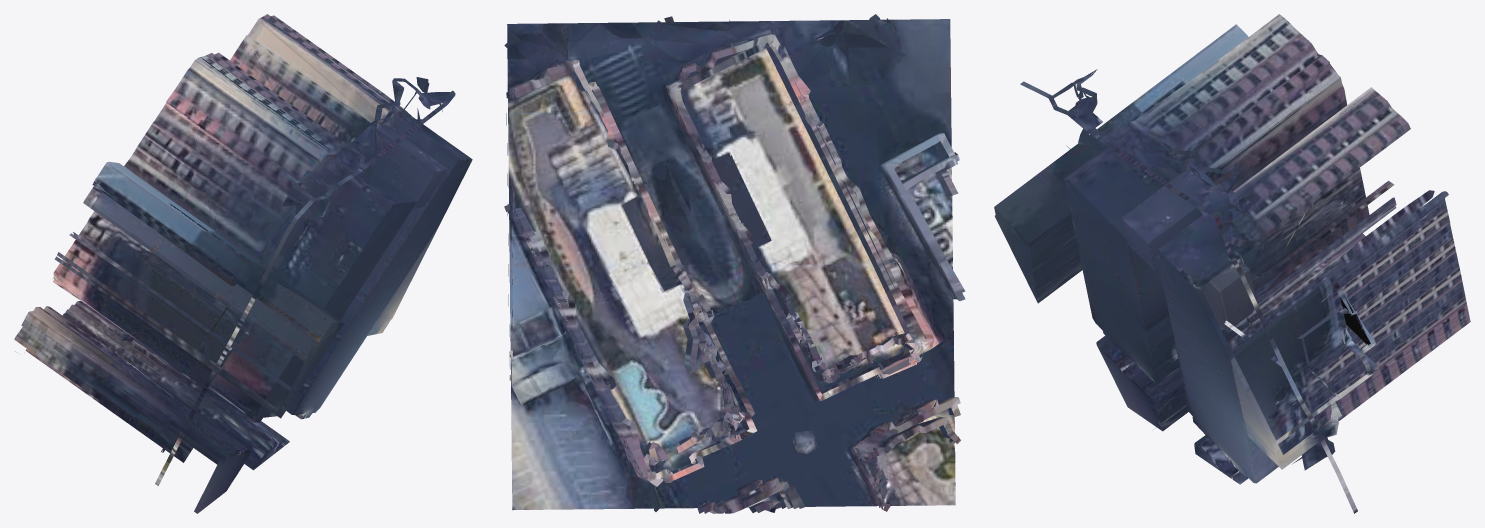
The picture shows the model from 3 angles, left to right: view 1: azimuth 30°, elevation 25°; view 2: azimuth 150°, elevation 25°; view 3: azimuth 270°, elevation 25°; orthographic projection. The views are drawn at different scales.
Bounding box in the file's own units: 96.26 × 89.09 × 89.78.
4 materials, 4 textured.
